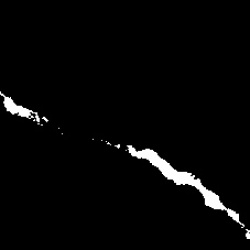crack: (106, 144, 245, 225), (3, 92, 51, 124)
